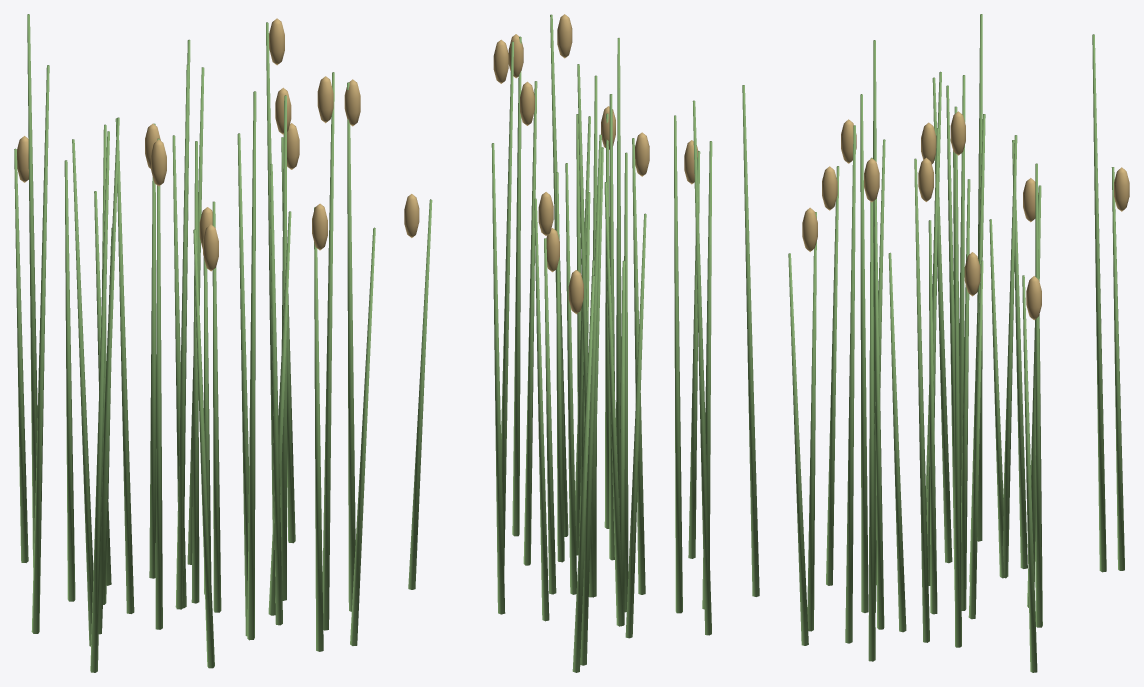
File: reed_patch_b.glb
3 renders of one model, left to right at view 1: azimuth 30°, elevation 25°; view 2: azimuth 150°, elevation 25°; view 3: azimuth 270°, elevation 25°, orthographic. The views are drawn at different scales.
Parts seen in each view (by area): view 1: reed_28, reed_16, reed_7, reed_5, reed_15, reed_27, reed_19, reed_1, reed_8, reed_18, reed_13, reed_17 (+25 smaller); view 2: reed_28, reed_7, reed_11, reed_1, reed_21, reed_27, reed_23, reed_14, reed_12, reed_17, reed_24, reed_4 (+26 smaller); view 3: reed_12, reed_1, reed_16, reed_15, reed_21, reed_27, reed_23, reed_11, reed_13, reed_14, reed_3, reed_0 (+27 smaller).
Boxes of the visible parts, x1,y1,x2,y2 form: reed_28: [31, 65, 49, 633]; reed_16: [247, 91, 256, 640]; reed_7: [90, 131, 109, 672]; reed_5: [176, 64, 189, 609]; reed_15: [322, 72, 334, 630]; reed_27: [347, 82, 355, 611]; reed_19: [115, 118, 134, 613]; reed_1: [27, 14, 37, 567]; reed_8: [72, 139, 93, 646]; reed_18: [155, 138, 162, 629]; reed_13: [270, 163, 282, 625]; reed_17: [64, 160, 75, 601]; reed_28: [692, 100, 711, 635]; reed_7: [742, 85, 759, 596]; reed_11: [674, 115, 682, 613]; reed_1: [580, 134, 601, 665]; reed_21: [523, 81, 537, 565]; reed_27: [512, 36, 521, 536]; reed_23: [491, 143, 505, 614]; reed_14: [604, 182, 623, 626]; reed_12: [501, 41, 513, 568]; reed_17: [625, 213, 646, 638]; reed_24: [534, 198, 549, 621]; reed_4: [565, 163, 576, 594]; reed_12: [954, 106, 961, 647]; reed_1: [1092, 34, 1106, 572]; reed_16: [860, 94, 868, 612]; reed_15: [845, 125, 855, 643]; reed_21: [914, 158, 929, 642]; reed_27: [868, 157, 875, 661]; reed_23: [1035, 163, 1042, 627]; reed_11: [932, 77, 952, 563]; reed_13: [874, 199, 884, 629]; reed_14: [1002, 135, 1017, 578]; reed_3: [826, 166, 839, 585]; reed_0: [1111, 167, 1124, 570].
Size of the model in its own units: 0.7183 by 1.32 by 0.76.
